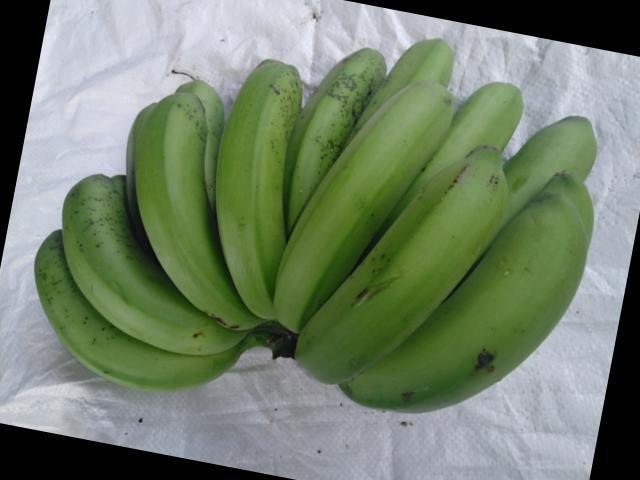freshunripe: (266, 85, 457, 318)
unripe: (352, 187, 597, 421), (301, 139, 520, 377), (49, 164, 232, 347), (138, 88, 252, 321), (214, 58, 300, 330)
